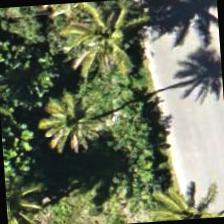Kelapa_Sawit: (21, 78, 117, 174), (46, 0, 142, 86), (143, 170, 223, 222)
